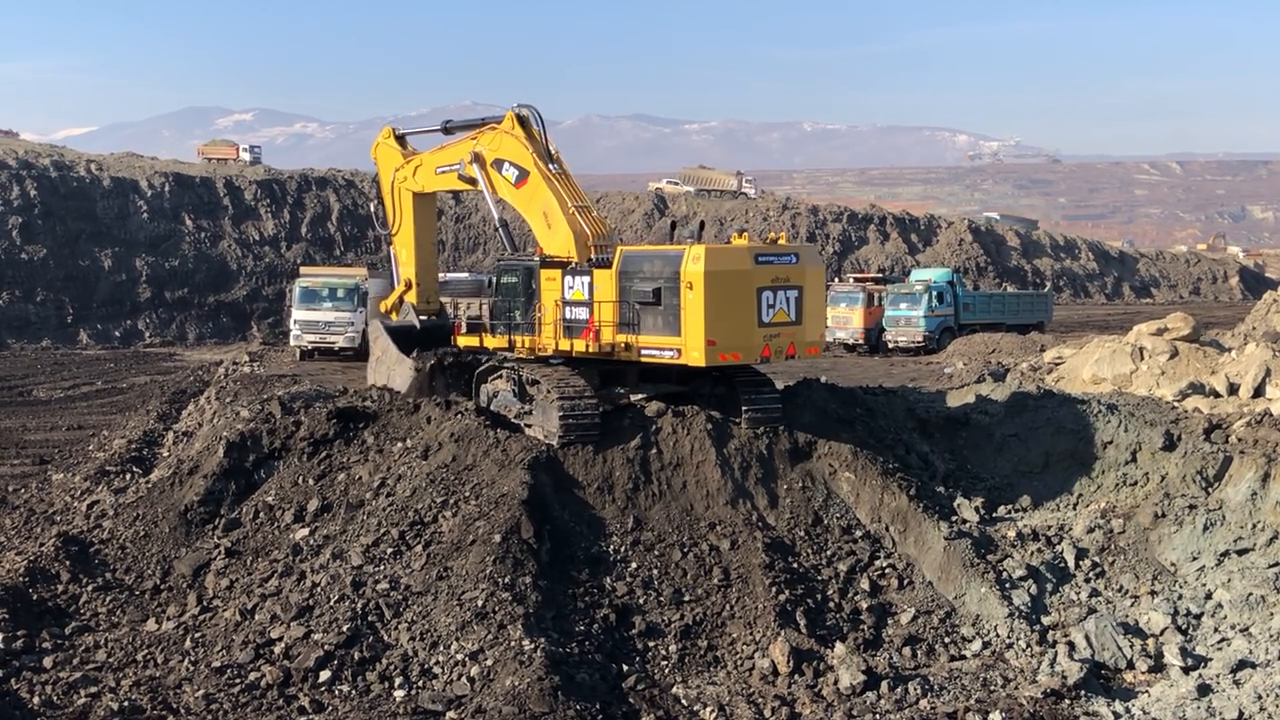full: (365, 311, 490, 400)
